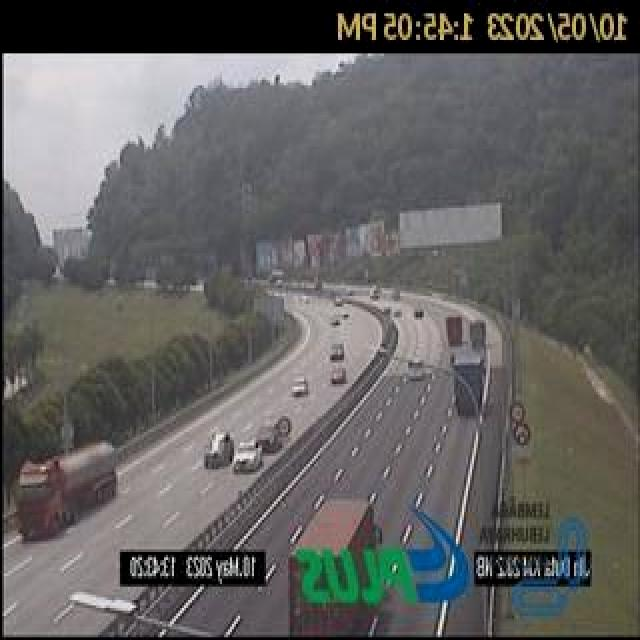Car: (202, 431, 233, 471), (234, 440, 262, 471), (256, 425, 279, 451), (291, 378, 310, 397), (277, 414, 291, 438), (330, 366, 347, 384), (330, 342, 346, 360)
Truck: (286, 493, 382, 640), (15, 438, 117, 540), (450, 348, 485, 419), (445, 314, 465, 346), (468, 319, 487, 348)
